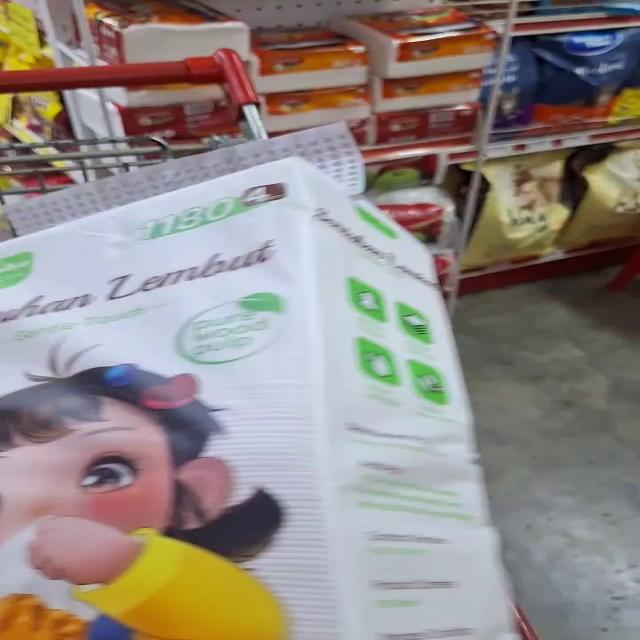Tisu: (0, 373, 543, 639), (4, 165, 500, 440)
